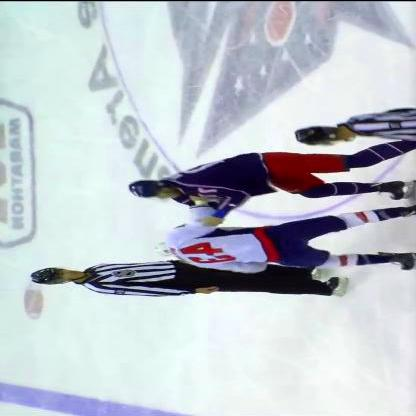voilence: (132, 147, 415, 274)
